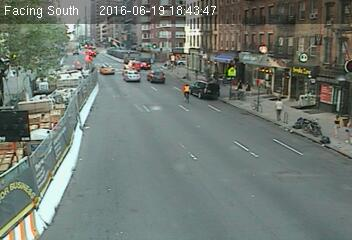neg: (178, 83, 194, 105), (169, 54, 179, 68)
pos: (328, 114, 348, 139), (272, 99, 288, 120), (344, 116, 351, 135)
